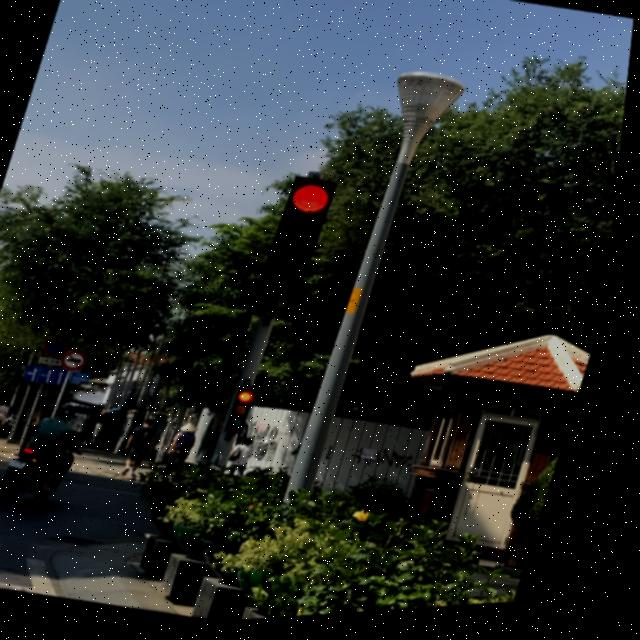Red: (261, 179, 337, 288), (229, 381, 272, 439)
